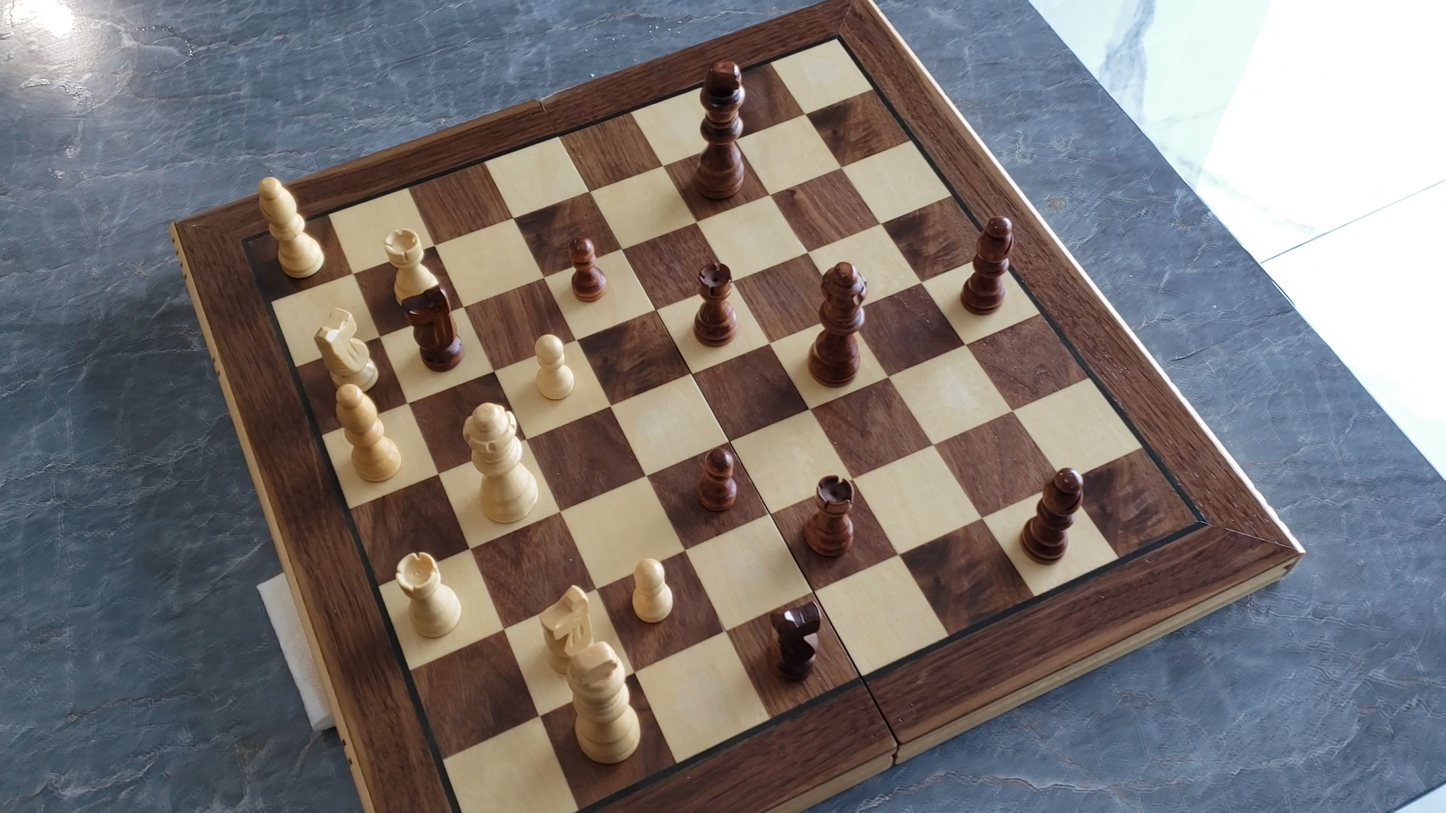black-bishop: (1016, 455, 1089, 569), (959, 206, 1017, 326)
black-king: (689, 54, 749, 203)
black-knight: (400, 278, 465, 372), (767, 597, 825, 683)
black-pawn: (694, 440, 743, 515), (567, 231, 608, 305)
black-queen: (807, 258, 869, 388)
black-rook: (801, 471, 857, 560), (691, 258, 738, 348)
white-bishop: (252, 173, 331, 284), (330, 381, 404, 487)
white-king: (560, 634, 644, 768)
white-knight: (312, 304, 382, 397), (538, 582, 596, 678)
white-pawn: (625, 551, 679, 628), (527, 329, 580, 405)
white-queen: (457, 396, 540, 526)
white-rook: (393, 547, 466, 642), (380, 225, 442, 313)
